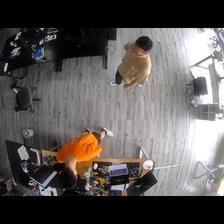normal: (57, 129, 113, 187), (111, 37, 155, 89)
